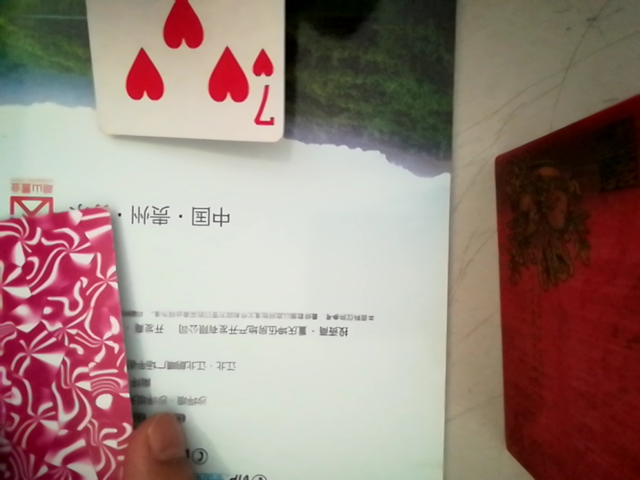hx 7: (74, 0, 296, 150)
